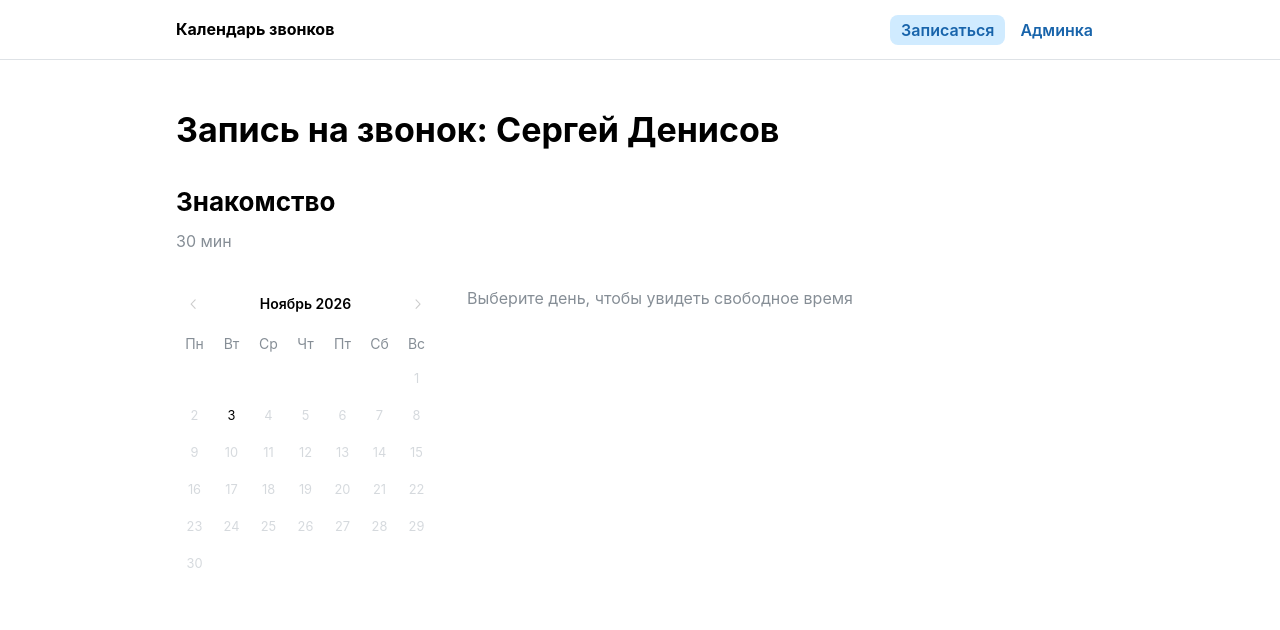
Test: the booking form › shows the chosen date, time and duration
Click the button named "3 ноября 2026" at {"x": 232, "y": 416}, box 214,398 -> 250,434
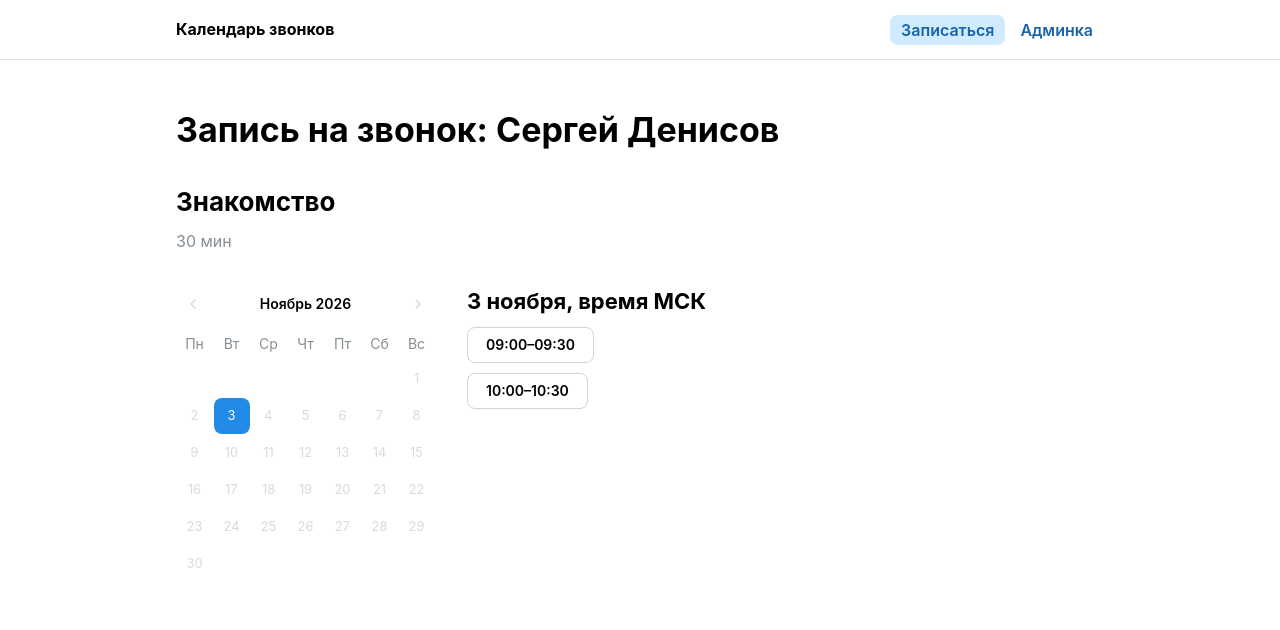
Click the button "10:00–10:30" at {"x": 527, "y": 391}, box 467,373 -> 588,409
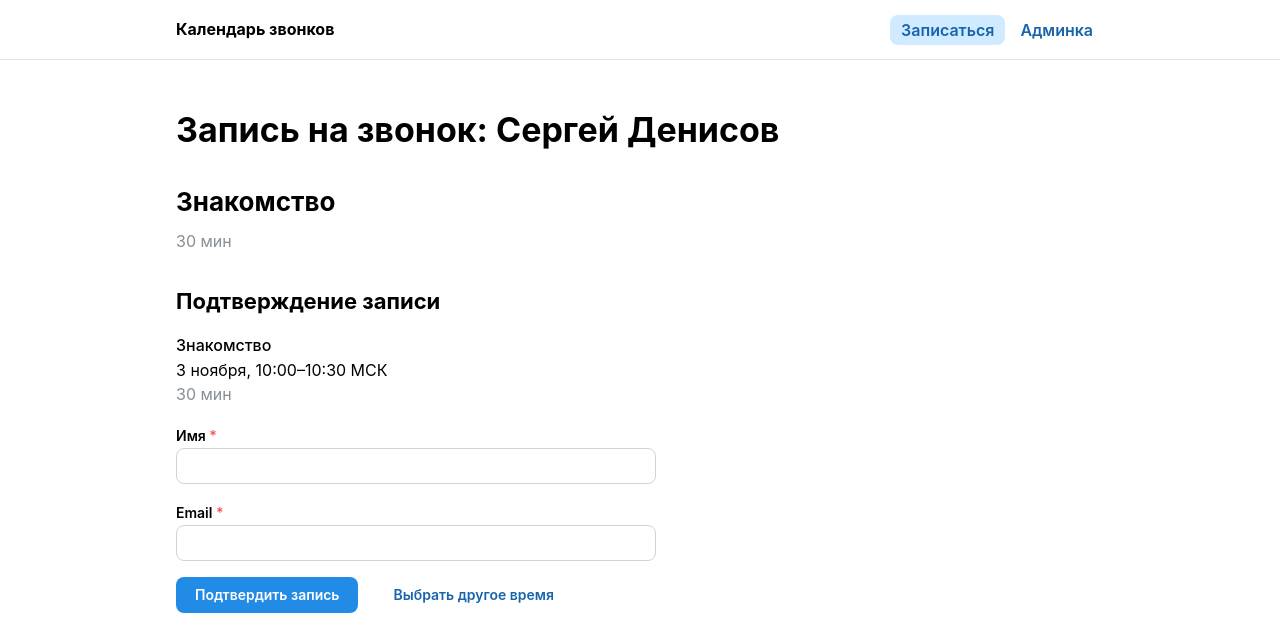
Expected: the text "Знакомство" is shown, 176,335 -> 271,355
Expected: the text "3 ноября, 10:00–10:30 МСК" is shown, 176,360 -> 388,380
Expected: the text "30 мин" below "3 ноября, 10:00–10:30 МСК" is shown, 176,384 -> 232,404
